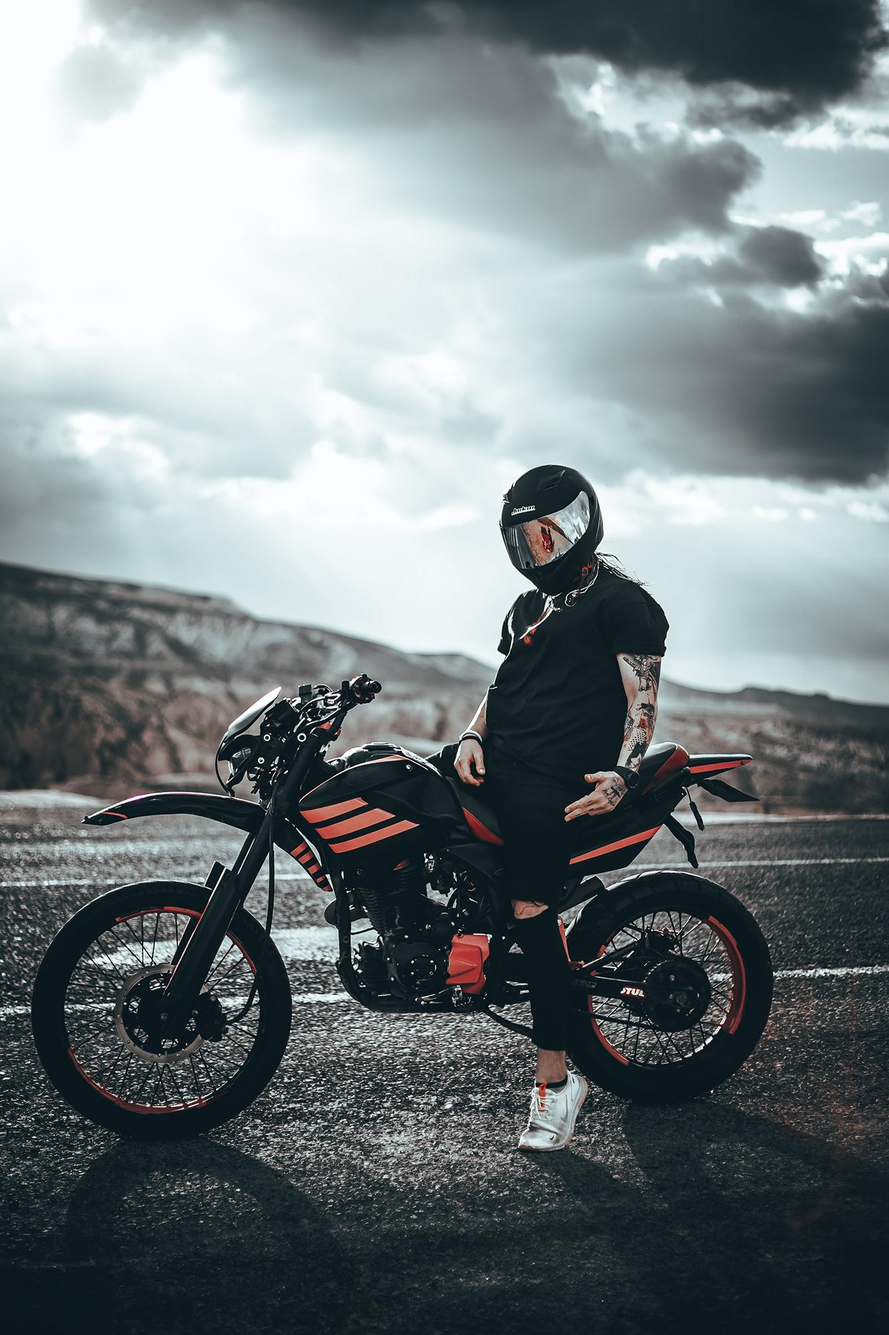helmet: (498, 463, 605, 597)
